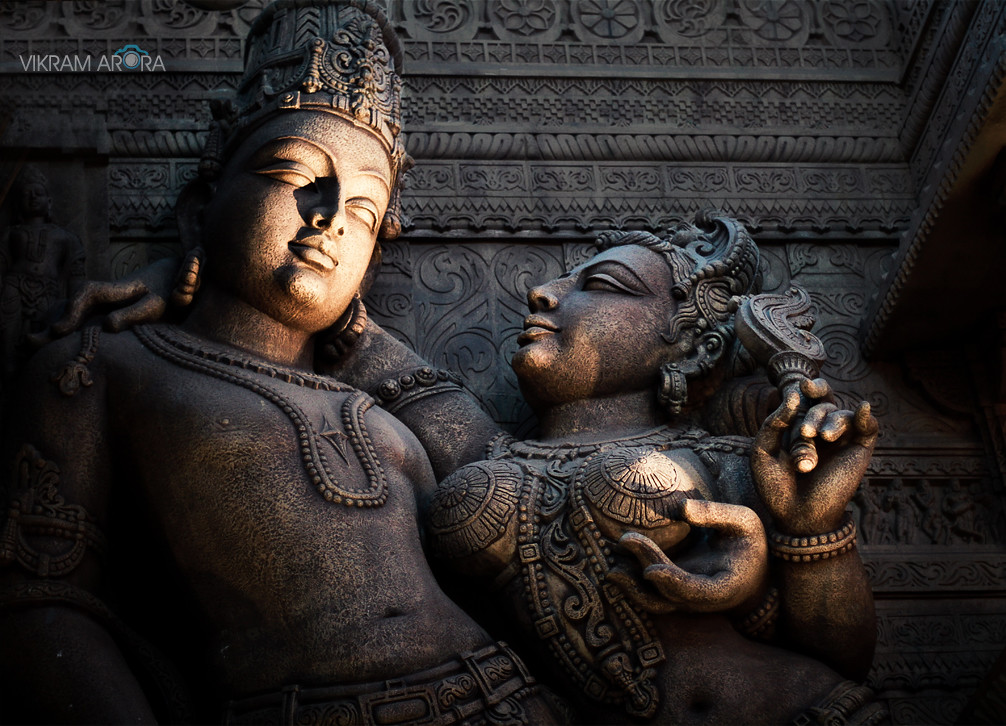person-like: (61, 4, 543, 725), (340, 205, 885, 726)
